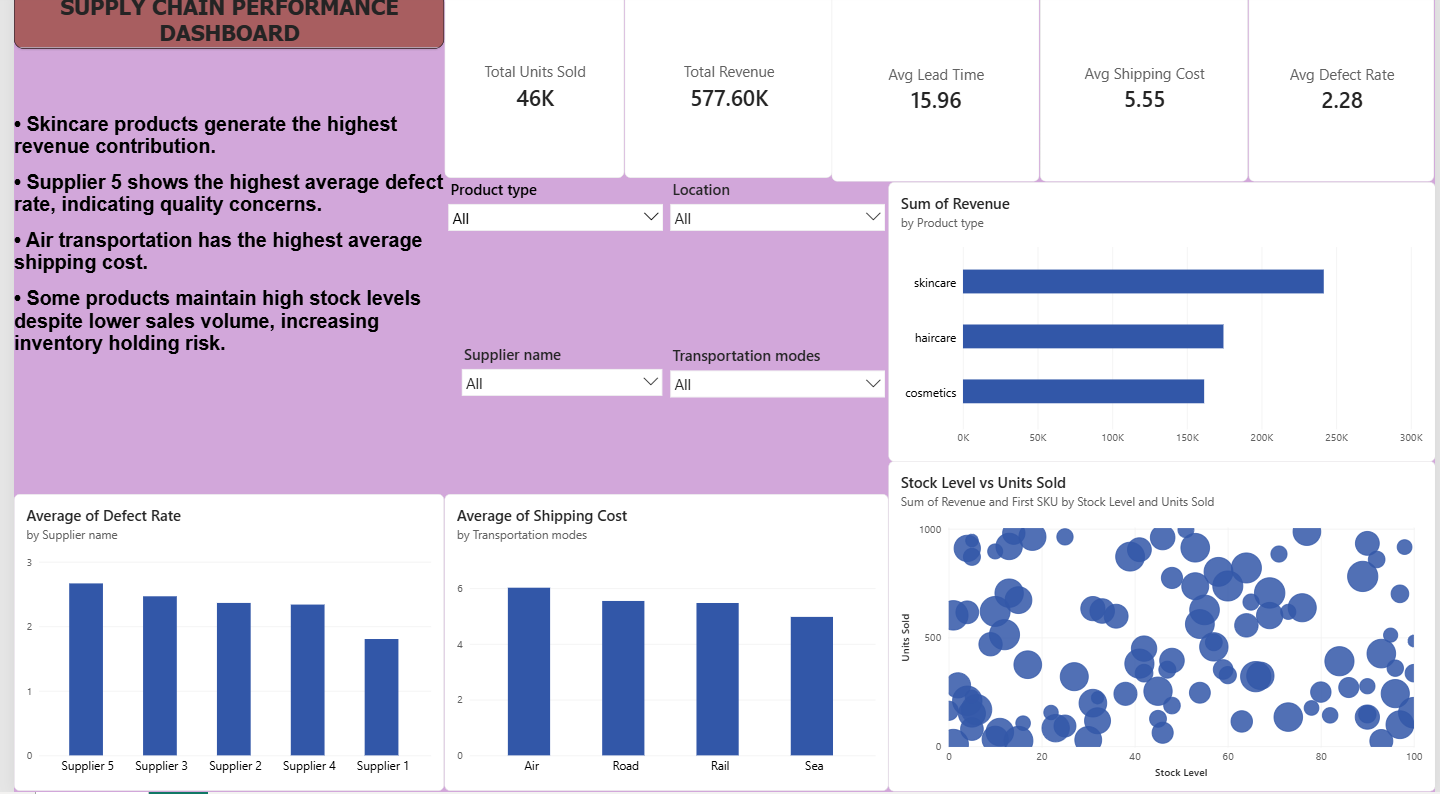

The page's visual inventory and layout, read from the dashboard file:
{"tool":"powerbi","page":{"name":"Page 1","canvas":[1920,1080],"ordinal":0},"visuals":[{"type":"cardVisual","fields":{"Data":["supply_chain_data.Total Units Sold"]},"box":[581.2,0,243.4,250.4],"z":0},{"type":"cardVisual","fields":{"Data":["supply_chain_data.Total Revenue"]},"box":[824.6,0,281.2,250.4],"z":1},{"type":"cardVisual","fields":{"Data":["supply_chain_data.Avg Lead Time"]},"box":[1105,2,281.8,253.4],"z":2},{"type":"cardVisual","fields":{"Data":["supply_chain_data.Avg Shipping Cost"]},"box":[1386.9,0,281.2,255.2],"z":3},{"type":"cardVisual","fields":{"Data":["supply_chain_data.Avg Defect Rate"]},"box":[1668.7,2,251.4,253.4],"z":4},{"type":"slicer","fields":{"Values":["supply_chain_data.Product type"]},"box":[581.2,250.4,300.1,219.7],"z":5},{"type":"slicer","fields":{"Values":["supply_chain_data.Supplier name"]},"box":[600.1,474.9,281.2,203.2],"z":6},{"type":"slicer","fields":{"Values":["supply_chain_data.Location"]},"box":[881.3,250.4,300.1,193.7],"z":7},{"type":"slicer","fields":{"Values":["supply_chain_data.Transportation modes"]},"box":[881.3,477.2,300.1,200.8],"z":9},{"type":"clusteredBarChart","fields":{"Category":["supply_chain_data.Product type"],"Y":["Sum(supply_chain_data.Revenue)"]},"box":[1181.3,255.2,739.5,378],"z":10},{"type":"clusteredColumnChart","fields":{"Category":["supply_chain_data.Supplier name"],"Y":["Avg(supply_chain_data.Defect Rate)"]},"box":[0,678.1,581.2,401.6],"z":11},{"type":"clusteredColumnChart","fields":{"Category":["supply_chain_data.Transportation modes"],"Y":["Avg(supply_chain_data.Shipping Cost)"]},"box":[581.2,678.1,600.1,401.6],"z":12},{"type":"scatterChart","title":"Stock Level vs Units Sold","fields":{"Size":["Sum(supply_chain_data.Revenue)"],"X":["supply_chain_data.Stock Level"],"Y":["supply_chain_data.Units Sold"]},"box":[1181.3,633.2,739.5,446.5],"z":13},{"type":"shape","title":"SUPPLY CHAIN PERFORMANCE DASHBOARD","box":[0,0,581.2,75.6],"z":14},{"type":"textbox","box":[0,163,581.2,515.1],"z":15}]}

Visuals, with their boxes in screenshot pixels (x1, y1, x2, y2), scaled from the page's 1920x1080 canvas onto the 1440x794 screenshot:
cardVisual - supply_chain_data.Total Units Sold: bbox=(436, 0, 618, 184)
cardVisual - supply_chain_data.Total Revenue: bbox=(618, 0, 829, 184)
cardVisual - supply_chain_data.Avg Lead Time: bbox=(829, 1, 1040, 188)
cardVisual - supply_chain_data.Avg Shipping Cost: bbox=(1040, 0, 1251, 188)
cardVisual - supply_chain_data.Avg Defect Rate: bbox=(1252, 1, 1439, 188)
slicer - supply_chain_data.Product type: bbox=(436, 184, 661, 346)
slicer - supply_chain_data.Supplier name: bbox=(450, 349, 661, 499)
slicer - supply_chain_data.Location: bbox=(661, 184, 886, 326)
slicer - supply_chain_data.Transportation modes: bbox=(661, 351, 886, 498)
clusteredBarChart - supply_chain_data.Product type x Sum(supply_chain_data.Revenue): bbox=(886, 188, 1439, 466)
clusteredColumnChart - supply_chain_data.Supplier name x Avg(supply_chain_data.Defect Rate): bbox=(0, 499, 436, 793)
clusteredColumnChart - supply_chain_data.Transportation modes x Avg(supply_chain_data.Shipping Cost): bbox=(436, 499, 886, 793)
"Stock Level vs Units Sold" scatterChart: bbox=(886, 466, 1439, 793)
"SUPPLY CHAIN PERFORMANCE DASHBOARD" shape: bbox=(0, 0, 436, 56)
textbox: bbox=(0, 120, 436, 499)
